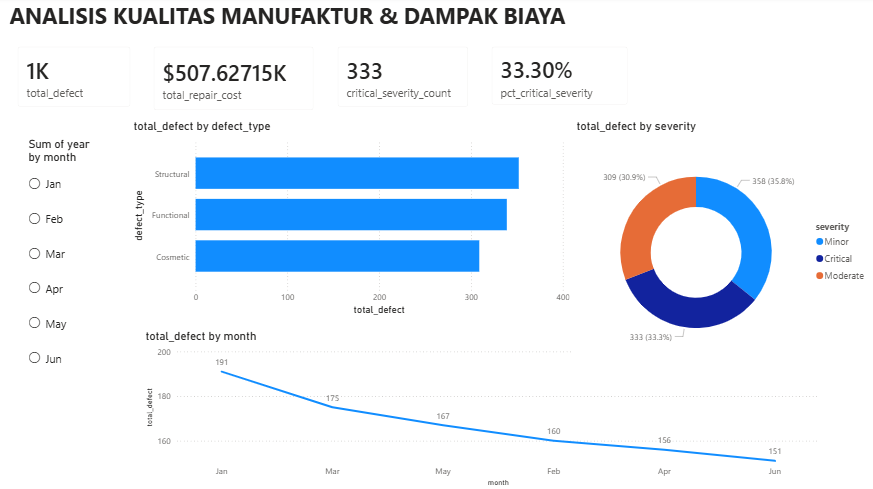

What the dashboard file says about the page in this screenshot:
{"tool":"powerbi","page":{"name":"Executive Summary","canvas":[1280,720],"ordinal":0},"visuals":[{"type":"textbox","box":[10.1,0,831.5,55.4],"z":0},{"type":"cardVisual","fields":{"Data":["defect_d1.total_defect"]},"box":[10.1,55.4,199.9,122.6],"z":1000},{"type":"cardVisual","fields":{"Data":["defect_d1.total_repair_cost"]},"box":[210,55.4,268.8,127.7],"z":2000},{"type":"cardVisual","fields":{"Data":["defect_d1.critical_severity_count"]},"box":[478.7,55.4,225.1,122.6],"z":3000},{"type":"cardVisual","fields":{"Data":["defect_d1.pct_critical_severity"]},"box":[703.8,55.4,233.5,119.3],"z":4000},{"type":"barChart","fields":{"Y":["defect_d1.total_defect"],"Category":["defect_d1.defect_type"]},"box":[191.5,178.1,648.4,292.3],"z":5000},{"type":"lineChart","fields":{"Category":["calendar.month"],"Y":["defect_d1.total_defect"]},"box":[210,485.5,996.1,235.2],"z":6000},{"type":"donutChart","fields":{"Category":["defect_d1.severity"],"Y":["defect_d1.total_defect"]},"box":[839.9,178.1,440.1,371.2],"z":7000},{"type":"listSlicer","fields":{"Values":["calendar.month"]},"box":[38.6,204.9,110.9,456.9],"z":8000}]}

Visuals, with their boxes in screenshot pixels (x1, y1, x2, y2), scaled from the page's 1280x720 canvas onto the 873x489 screenshot:
textbox: locate(7, 0, 574, 38)
cardVisual - defect_d1.total_defect: locate(7, 38, 143, 121)
cardVisual - defect_d1.total_repair_cost: locate(143, 38, 327, 124)
cardVisual - defect_d1.critical_severity_count: locate(326, 38, 480, 121)
cardVisual - defect_d1.pct_critical_severity: locate(480, 38, 639, 119)
barChart - defect_d1.total_defect x defect_d1.defect_type: locate(131, 121, 573, 319)
lineChart - calendar.month x defect_d1.total_defect: locate(143, 330, 823, 488)
donutChart - defect_d1.severity x defect_d1.total_defect: locate(573, 121, 872, 373)
listSlicer - calendar.month: locate(26, 139, 102, 449)
